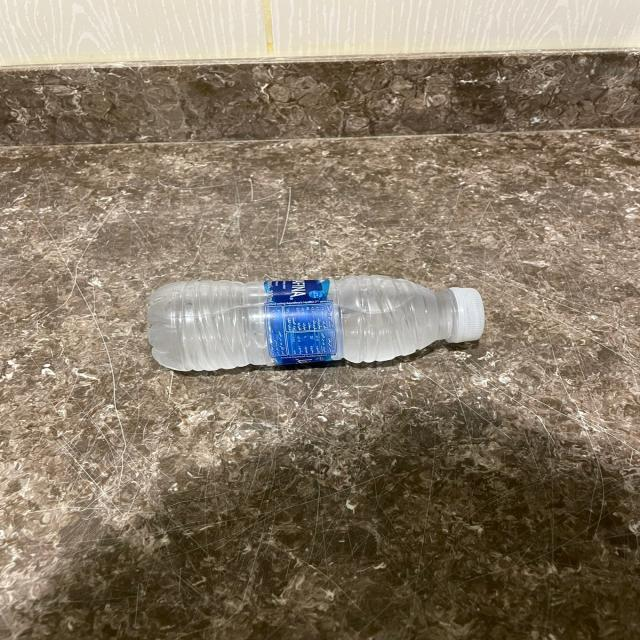chai: (149, 275, 485, 371)
